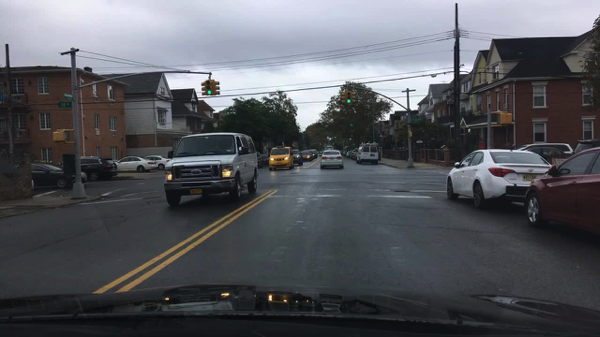car: (524, 144, 599, 240), (164, 132, 259, 206), (444, 149, 552, 209), (14, 161, 89, 191), (72, 156, 118, 180), (512, 147, 566, 161), (113, 156, 155, 173), (516, 143, 575, 154), (268, 146, 293, 171), (356, 142, 383, 163), (318, 150, 344, 170), (145, 156, 171, 169), (572, 140, 599, 152), (292, 148, 304, 167), (255, 150, 264, 169), (300, 149, 314, 161), (261, 151, 271, 167), (312, 149, 318, 160), (352, 148, 357, 159), (347, 150, 352, 158), (324, 146, 333, 149), (344, 152, 350, 156)
traffic light: (495, 113, 511, 125), (52, 131, 68, 141), (204, 79, 213, 96), (213, 81, 220, 96), (339, 91, 345, 106), (352, 91, 358, 106), (462, 127, 473, 135), (199, 82, 205, 96), (346, 91, 352, 104)
traffic sign: (63, 92, 73, 100), (411, 114, 420, 121), (59, 102, 71, 106)
